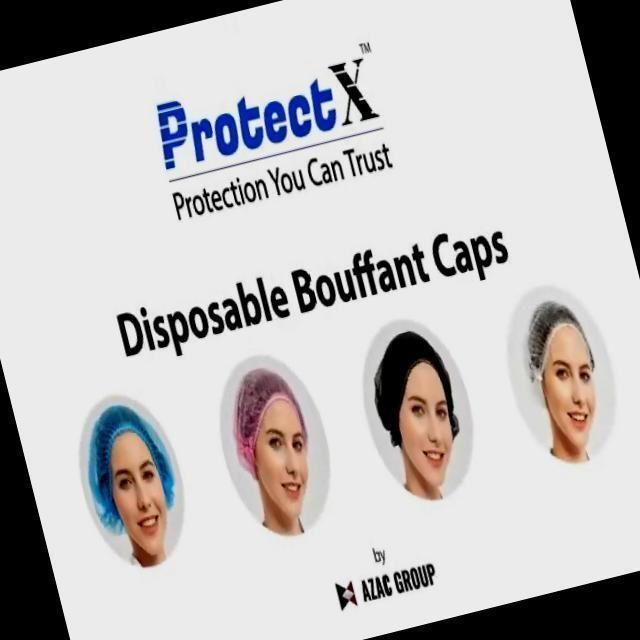no_hairnet: (406, 404, 454, 476), (114, 496, 182, 546), (554, 376, 600, 434), (258, 446, 300, 506)
